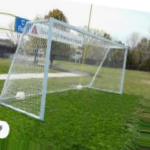goals: (1, 17, 130, 120)
